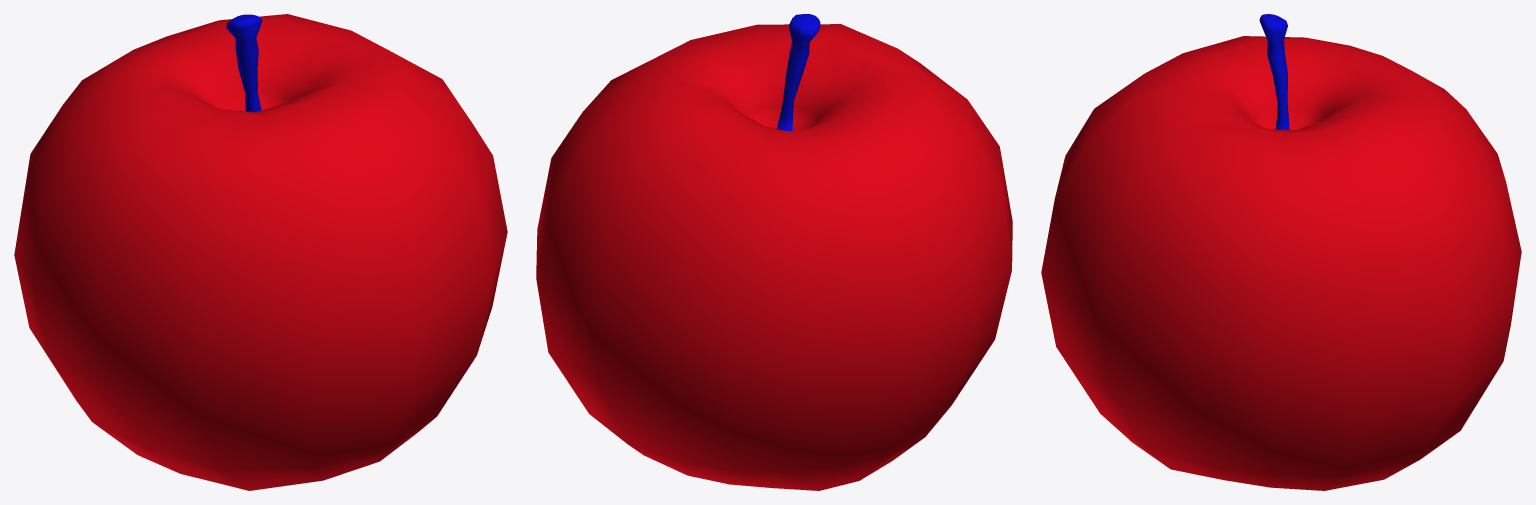
File: Apple.fbx
3 views of the same model, side by side, from view 1: azimuth 30°, elevation 25°; view 2: azimuth 150°, elevation 25°; view 3: azimuth 270°, elevation 25° (orthographic). The views are drawn at different scales.
Visible parts, largest first — view 1: Plane; view 2: Plane; view 3: Plane.
Part boxes in pixels (x1=…): Plane: x1=14, y1=14, x2=507, y2=490; Plane: x1=536, y1=14, x2=1012, y2=490; Plane: x1=1041, y1=14, x2=1521, y2=490.
Size of the model in its own units: 100 by 99.43 by 99.63.
